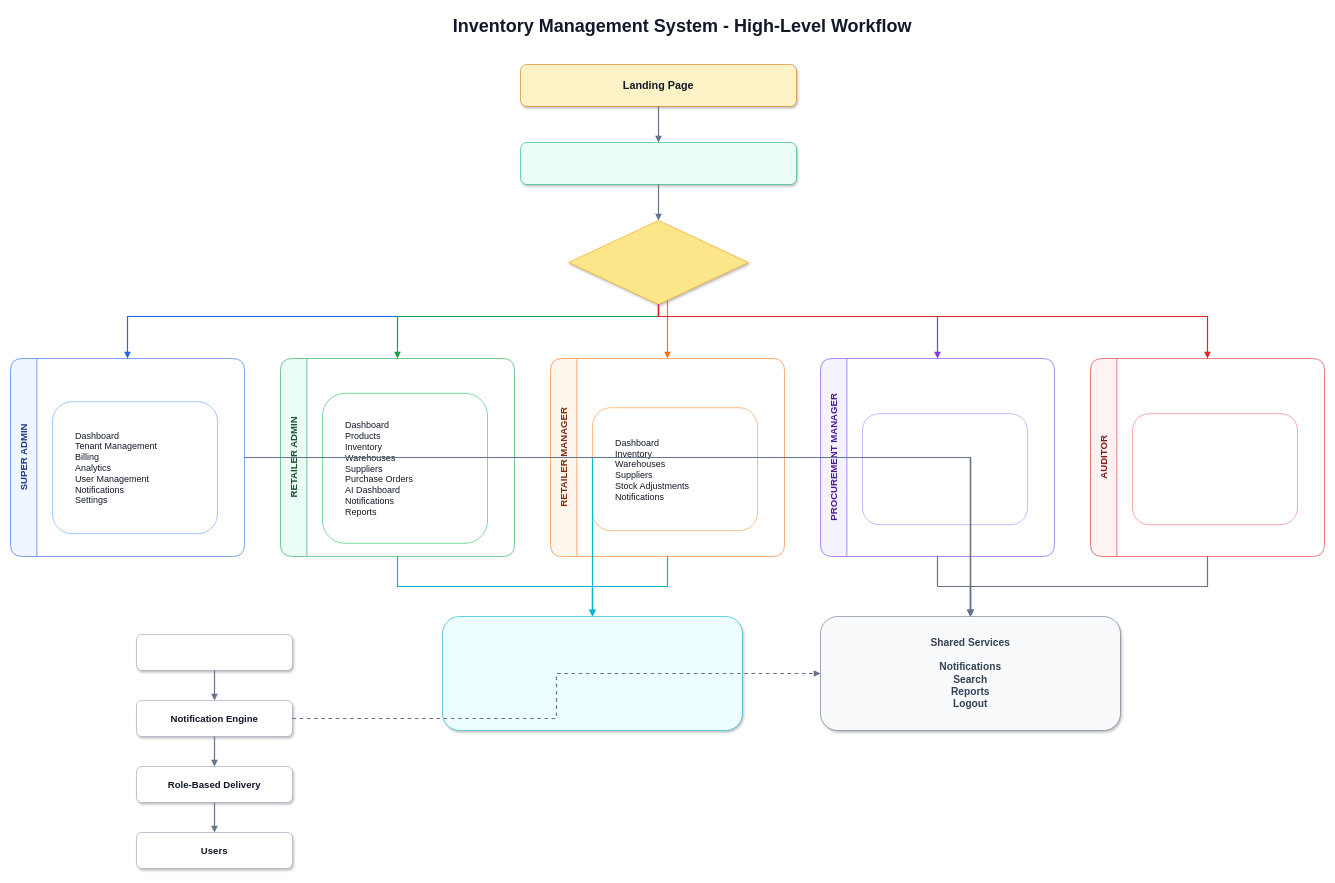
This 1335x883 diagram has some shape labels left out. Here are the shapes that lost their labels. From the top down, the centre of each, then its label:
At point (659, 164): "Authentication".
At point (659, 263): "Role-Based Access".
At point (945, 469): "Dashboard Purchase Orders Suppliers Inventory Receiving Notifications".
At point (1215, 469): "Dashboard Audit Logs Compliance Reports User Activity Notifications".
At point (215, 653): "System Events".
At point (593, 674): "AI Services Forecasting Recommendations Insights Risk Detection".
